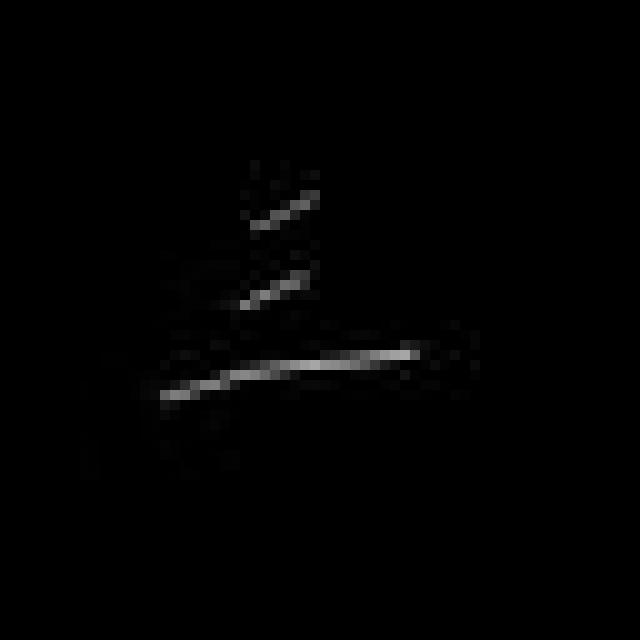3 -three-: (141, 175, 430, 418)
